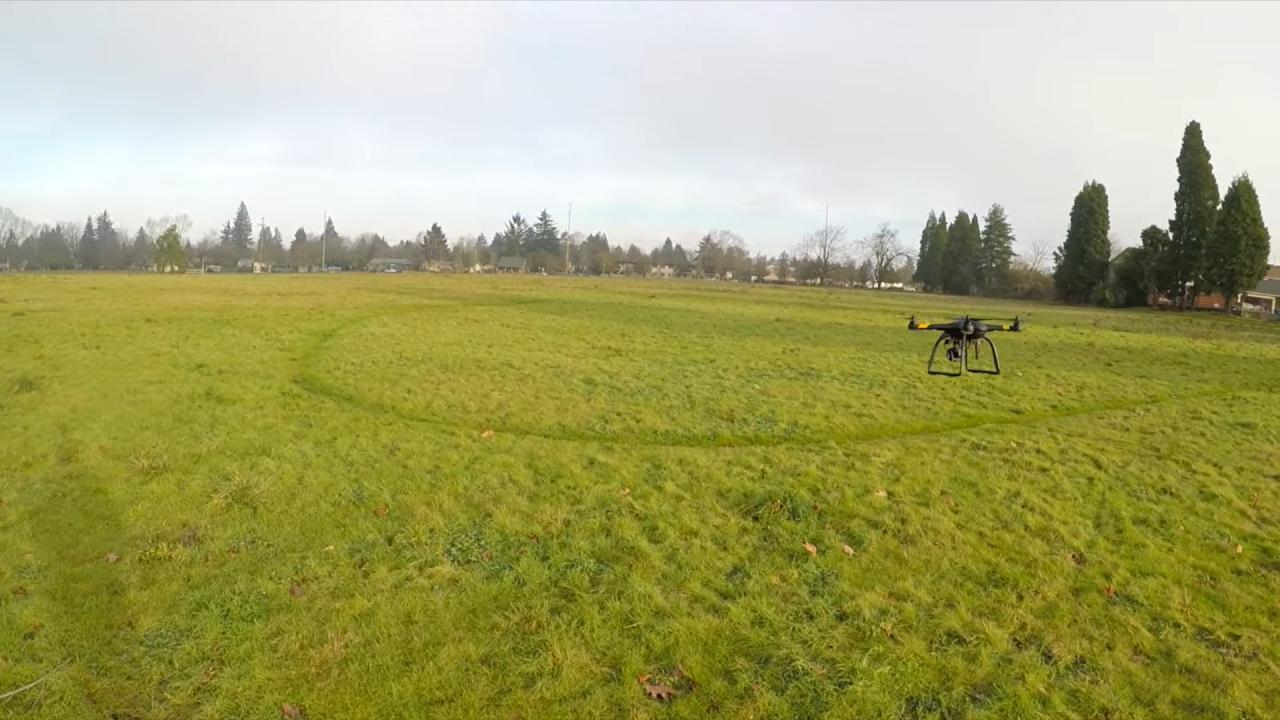Drone: (890, 303, 1040, 390)
